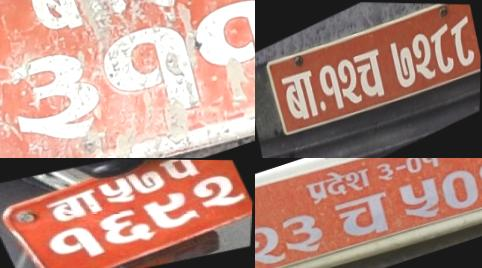0: (20, 0, 115, 41), (433, 161, 482, 215), (400, 158, 424, 175)
1: (43, 223, 111, 264), (314, 58, 347, 118), (416, 158, 444, 172)
2: (188, 171, 252, 210), (407, 21, 440, 88), (335, 50, 365, 110), (255, 216, 289, 268)
3: (94, 15, 210, 134), (184, 0, 255, 110), (275, 204, 330, 261), (372, 158, 397, 182)
5: (392, 169, 448, 225), (94, 175, 139, 205)
6: (93, 206, 159, 247)
7: (388, 33, 421, 94), (124, 165, 171, 195)
8: (445, 3, 482, 68), (425, 13, 460, 78)
9: (140, 189, 205, 230)
ba: (0, 44, 110, 156), (279, 61, 324, 132), (43, 188, 107, 222)
cha: (328, 182, 399, 247), (352, 37, 390, 106)
pa: (154, 159, 208, 183)
